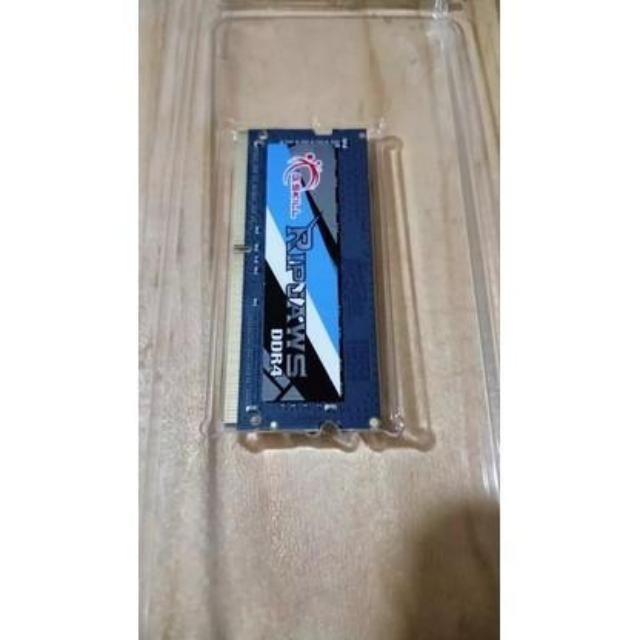RAM: (212, 122, 383, 438)
